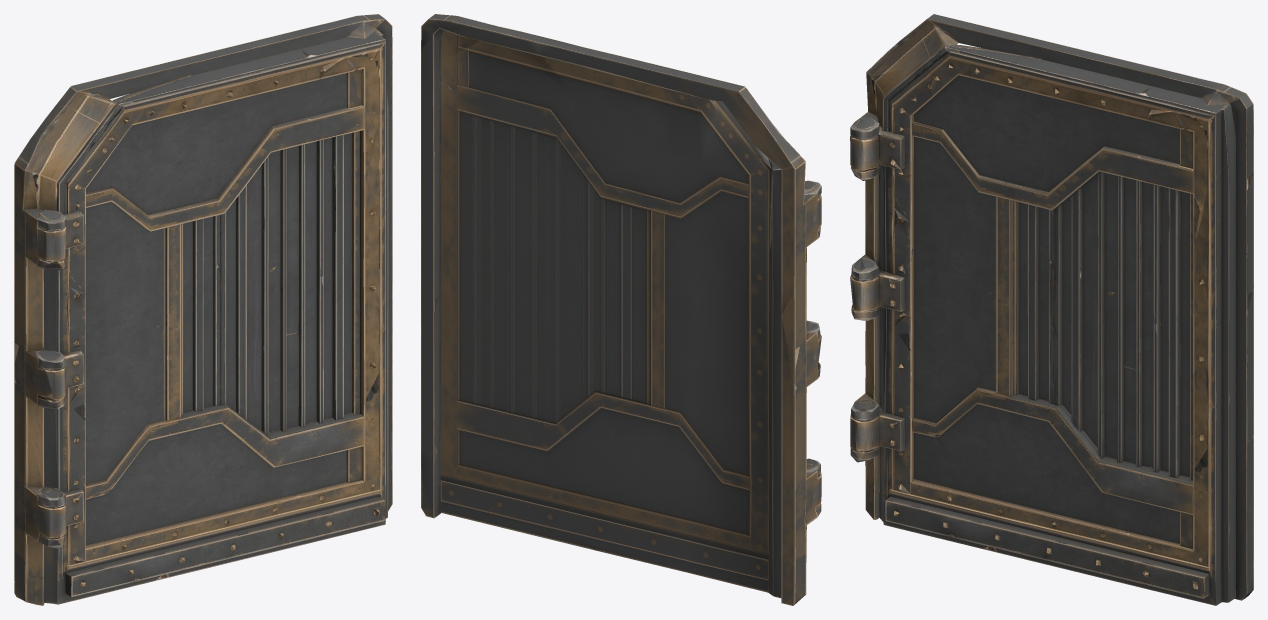
Rendered from imperial_city_gate__gate_left.glb.
3 views of the same model, side by side, from view 1: azimuth 30°, elevation 25°; view 2: azimuth 150°, elevation 25°; view 3: azimuth 330°, elevation 25° (orthographic).
Visible parts, largest first — view 1: mesh_node; view 2: mesh_node; view 3: mesh_node.
Part boxes in pixels (x1,y1,x2,y2): mesh_node: (14,14,392,605); mesh_node: (421,14,821,605); mesh_node: (850,14,1253,605).
Bounding box in the file's own units: 3.55 × 4.55 × 0.5486.
1 material, 1 textured.
